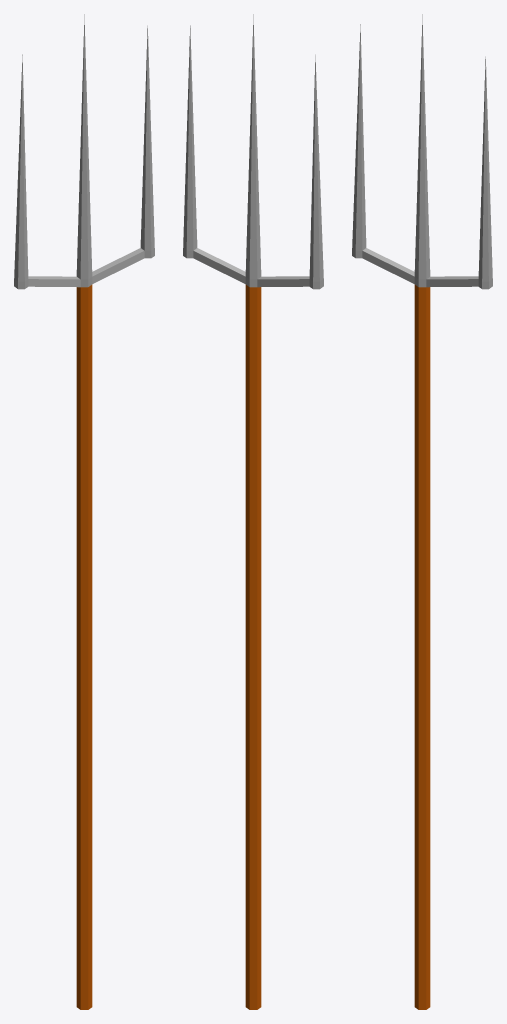
Rendered from pitchfork.fbx.
3 renders of one model, left to right at view 1: azimuth 30°, elevation 25°; view 2: azimuth 150°, elevation 25°; view 3: azimuth 330°, elevation 25°, orthographic.
Visible parts, largest first — view 1: pitchfork; view 2: pitchfork; view 3: pitchfork.
Part boxes in pixels (left/top/right/bottom): pitchfork: left=14, top=14, right=154, bottom=1009; pitchfork: left=183, top=14, right=323, bottom=1009; pitchfork: left=352, top=14, right=492, bottom=1009.
Bounding box in the file's own units: 101 × 700 × 10.05.
